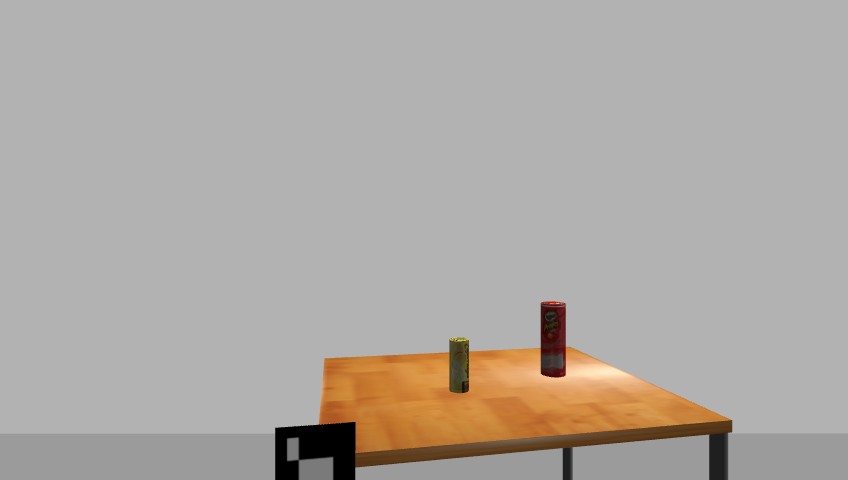aruco marker: (268, 421, 362, 480)
biscuits pack: (448, 337, 471, 395)
dinner table: (312, 344, 741, 479)
pringles can: (538, 301, 569, 379)
